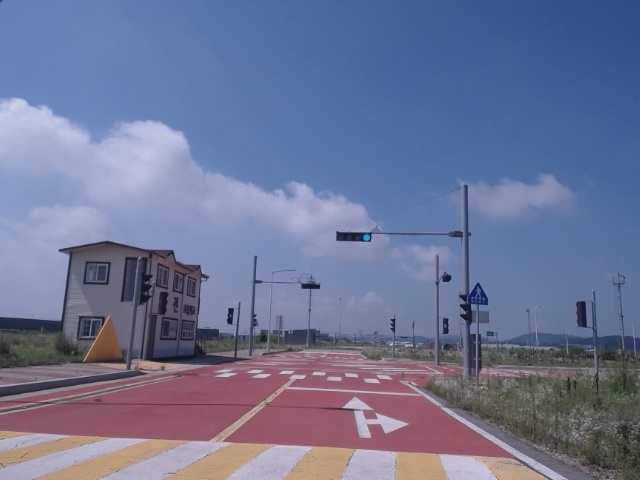straight_green_4: (336, 234, 371, 242)
